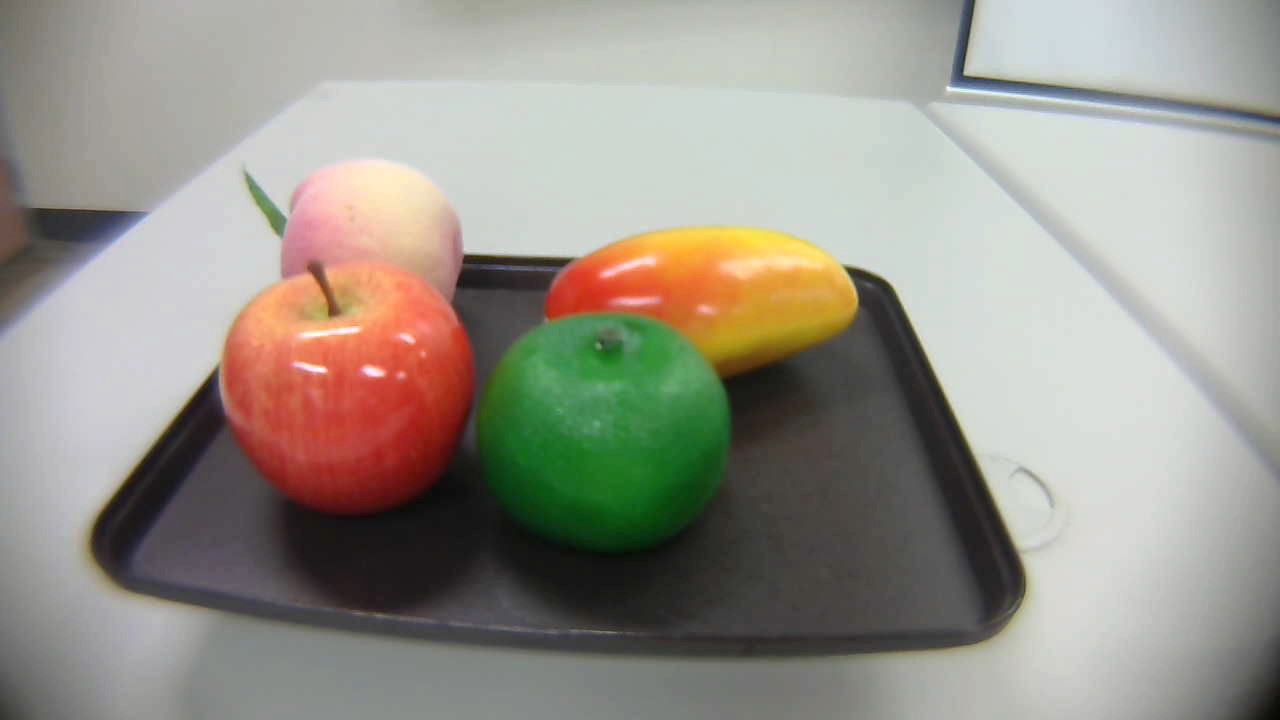green orange: (488, 313, 723, 546)
peach: (238, 156, 483, 319)
red apple: (202, 256, 482, 529)
red mango: (547, 224, 863, 388)
